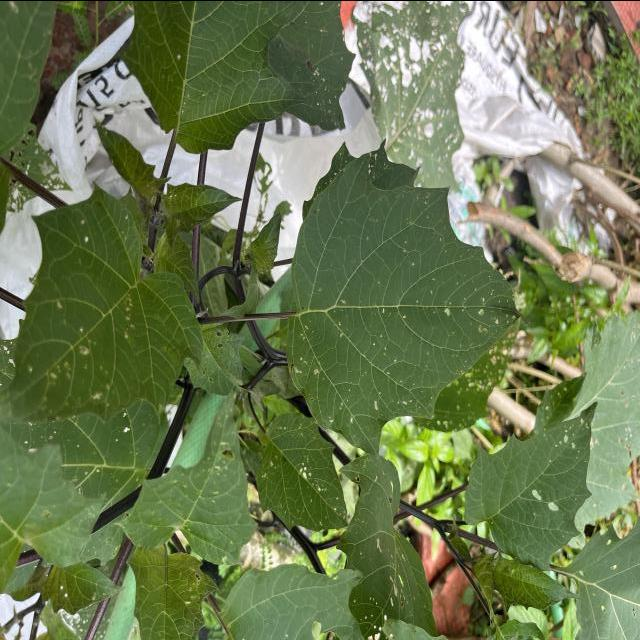Datura metal linn: (275, 146, 538, 463), (0, 176, 209, 430), (460, 398, 600, 574), (254, 408, 351, 532), (490, 544, 584, 614), (158, 180, 246, 250)
